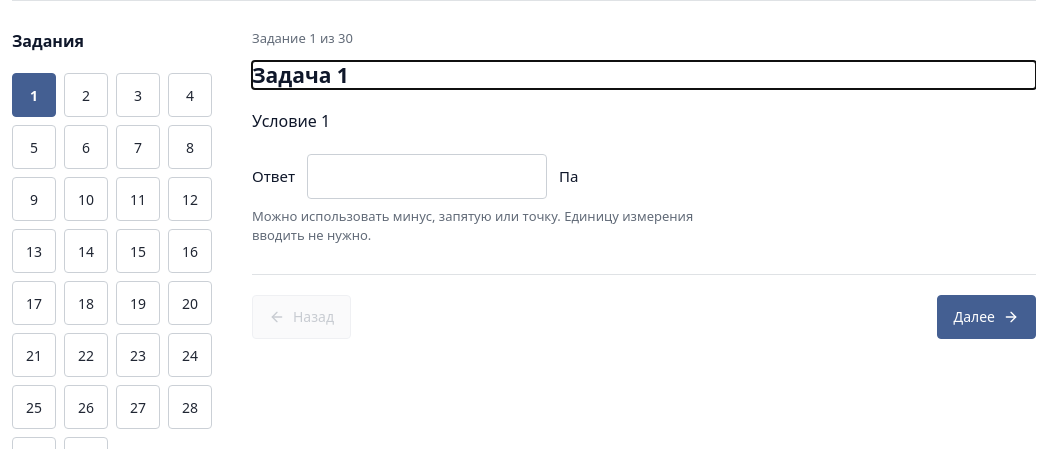
Test: keeps navigation available when browser storage is denied
Click the button "Далее" at (986, 317), box [937, 295, 1036, 339]
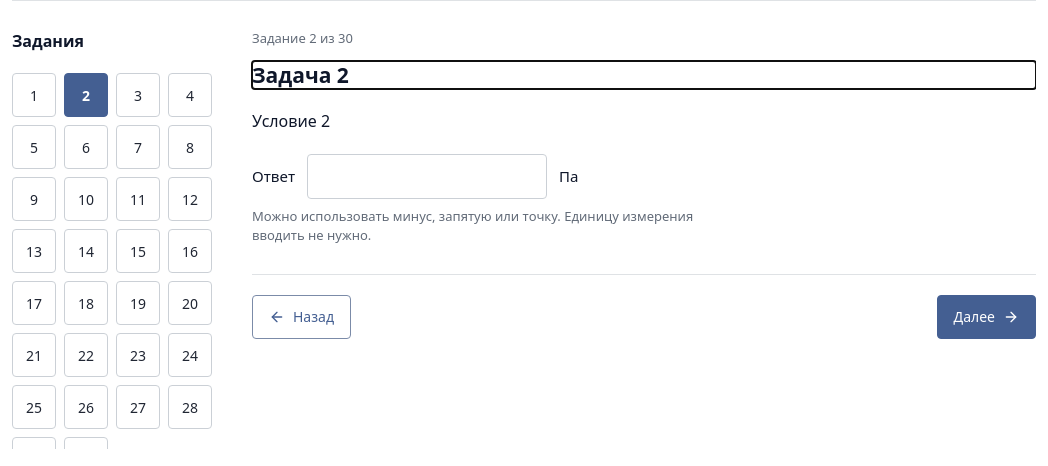
Expected: the text "Условие 2" is shown, [252, 110, 330, 132]
